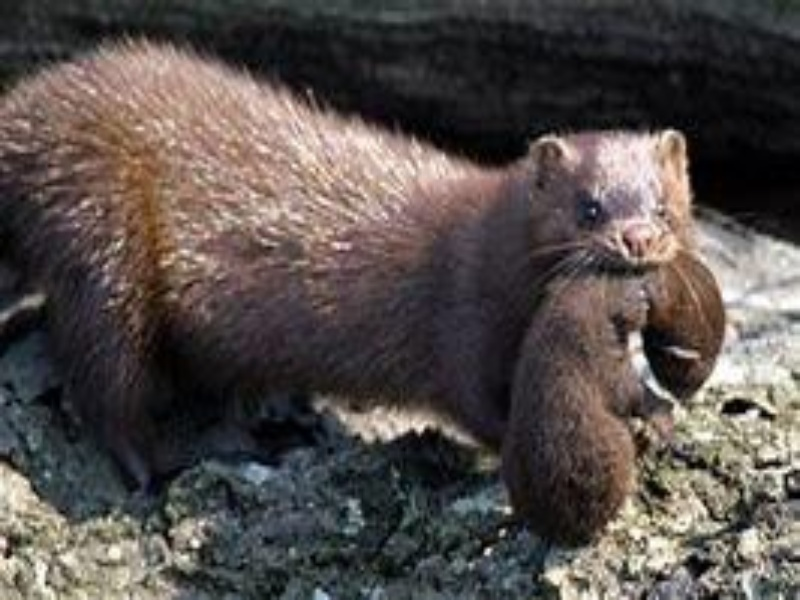minkish: (3, 34, 697, 475)
